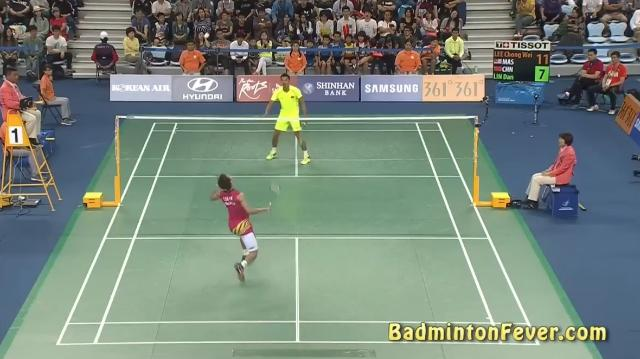Shuttlecock: (202, 30, 214, 40)
